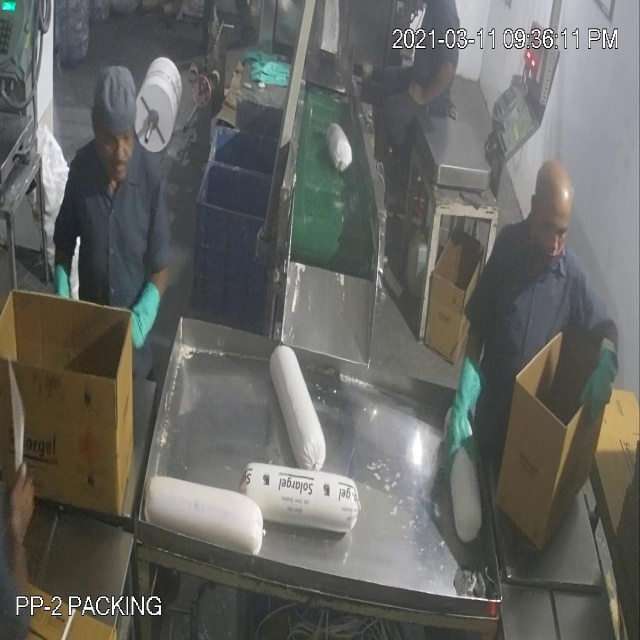Guantes: (435, 346, 486, 484), (580, 327, 625, 437), (127, 263, 159, 369)
Sin_guantes: (8, 453, 47, 608), (407, 48, 459, 116)
